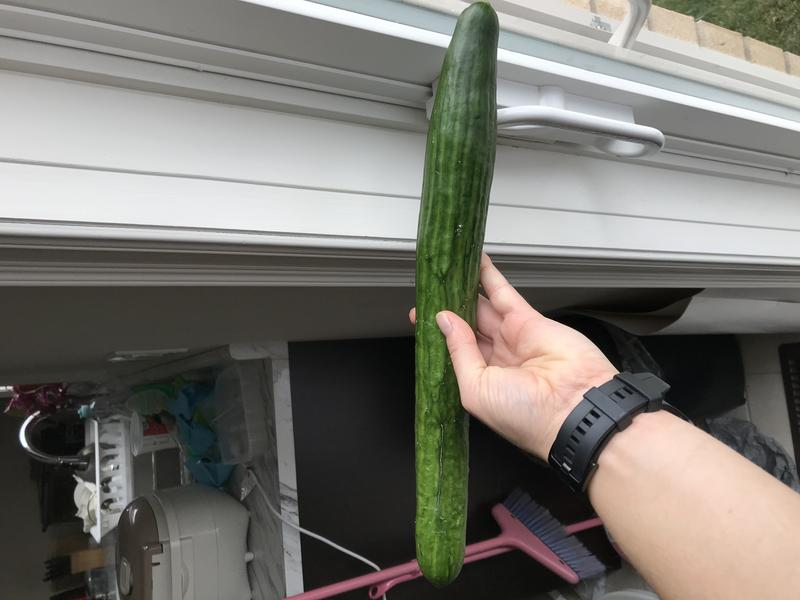cucumber: (399, 1, 509, 595)
